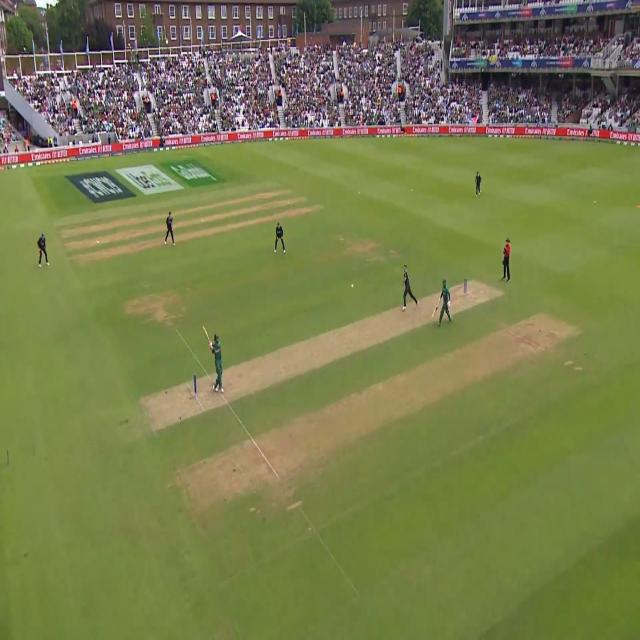ball: (347, 275, 359, 299)
